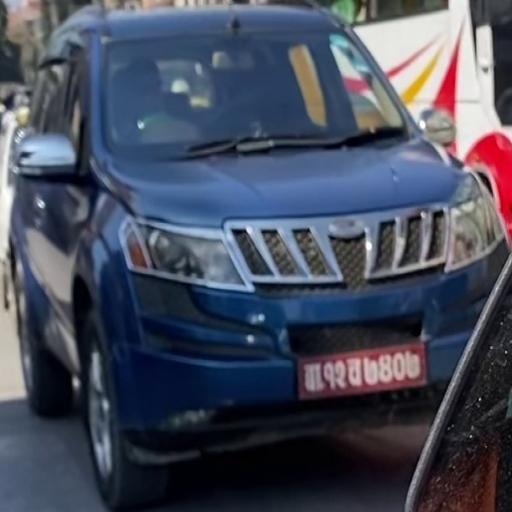license_plate: (295, 340, 429, 399)
